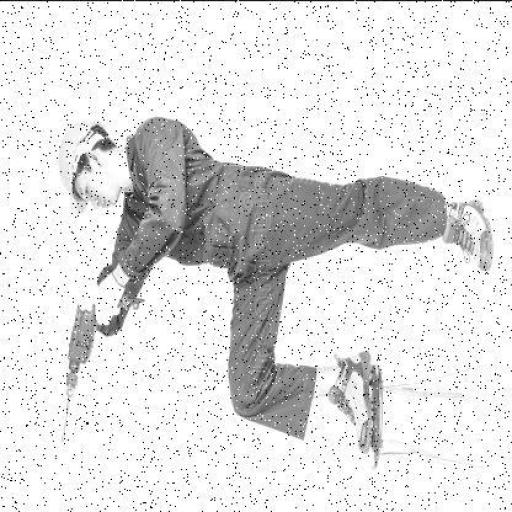person: (30, 114, 497, 479)
safety_shoe: (330, 341, 384, 458), (444, 190, 494, 270)
